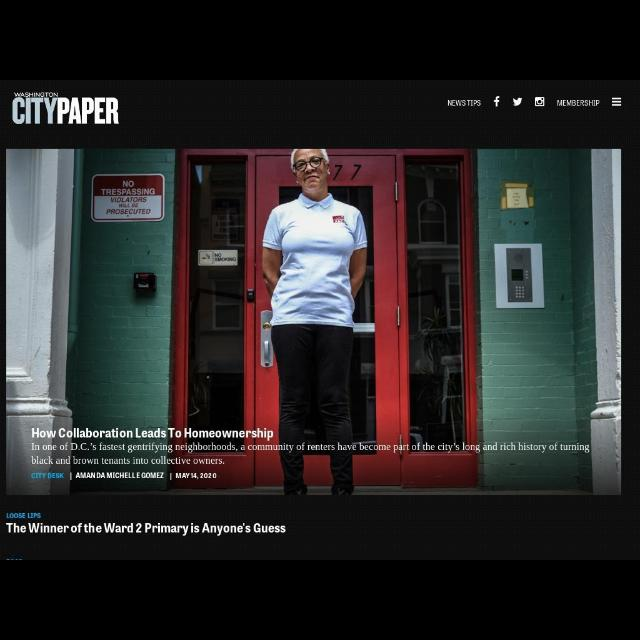icon: (492, 96, 502, 108), (512, 96, 524, 106), (533, 97, 545, 107), (611, 97, 623, 107)
image: (6, 148, 620, 494), (12, 92, 120, 125)
text: (30, 442, 590, 464), (4, 522, 286, 536), (31, 428, 275, 440), (74, 470, 164, 480), (175, 472, 217, 481), (4, 512, 42, 520), (446, 98, 482, 106), (556, 100, 600, 106), (30, 472, 64, 478)
